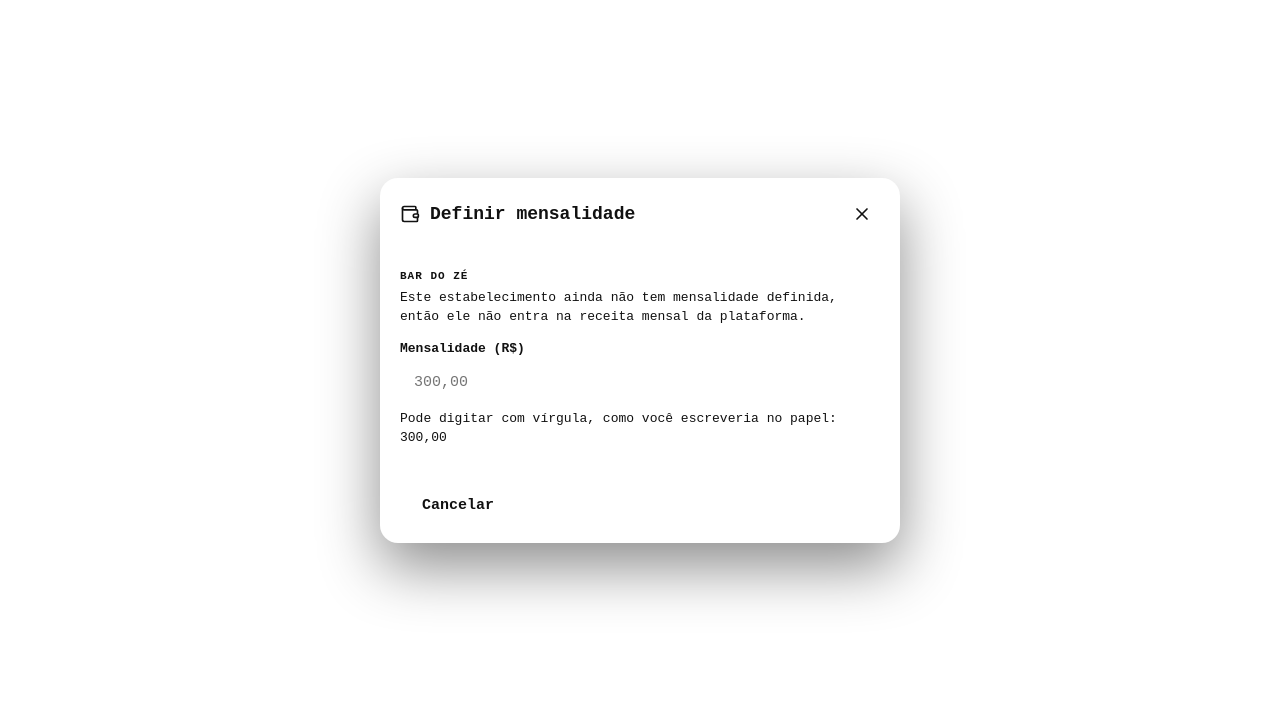
Test: DefinirMensalidadeModal, o preço da plataforma › negativo é recusado (viraria receita negativa no cartão da plataforma)
The image size is (1280, 720).
Step 1. Type "-50" into the field → (640, 382), box [400, 362, 880, 402]
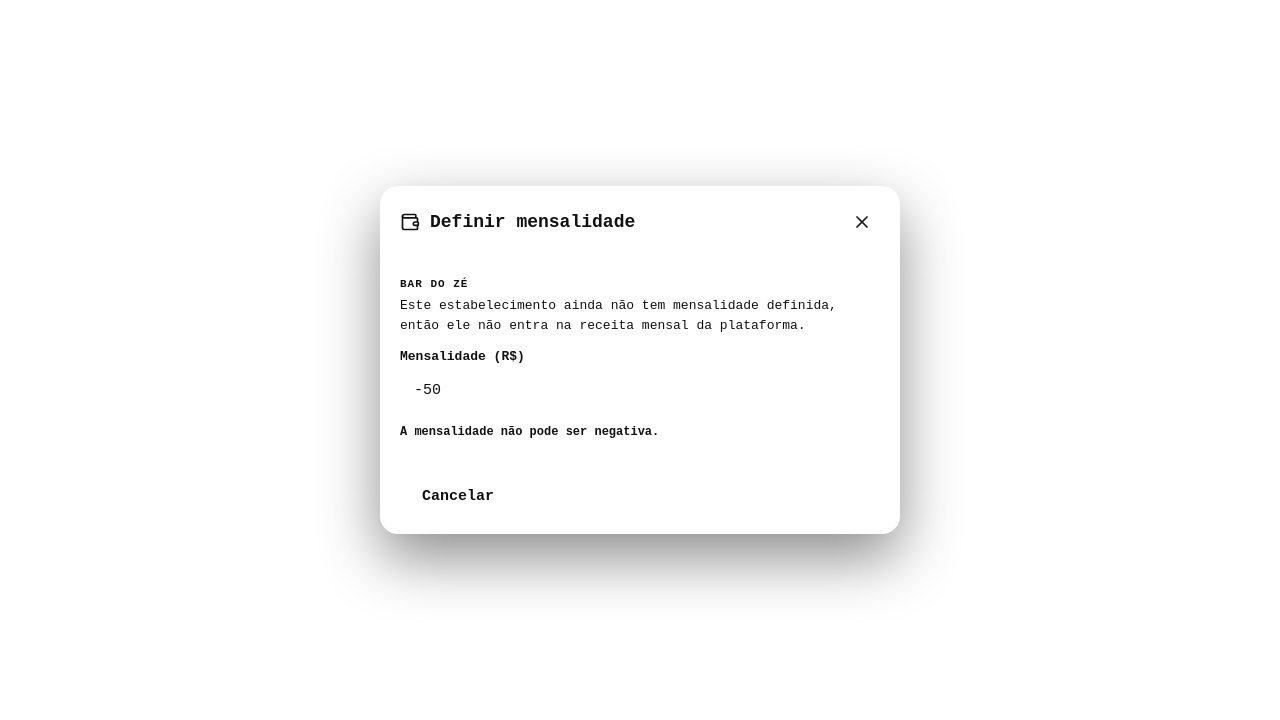
Expected: the message shows "não pode ser negativa", [400, 425, 659, 439]
